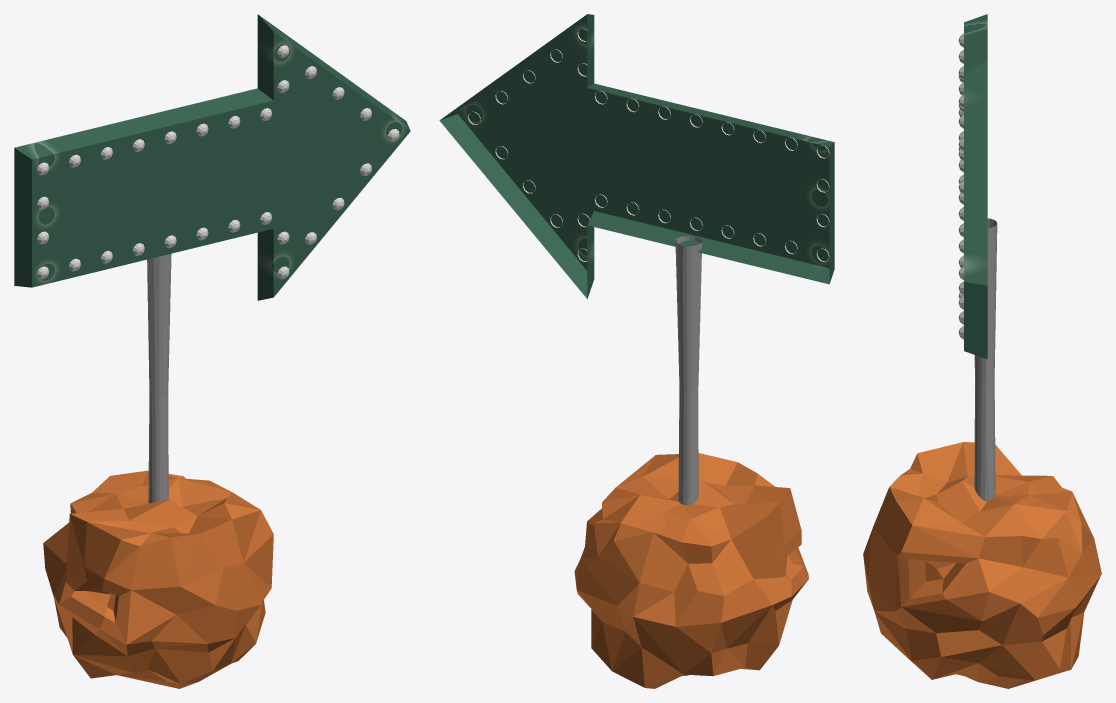
Rendered from signArrow.fbx.
The picture shows the model from 3 angles, left to right: view 1: azimuth 30°, elevation 25°; view 2: azimuth 150°, elevation 25°; view 3: azimuth 270°, elevation 25°; orthographic projection. The views are drawn at different scales.
Visible parts, largest first — view 1: Cylinder.001, Cube, Cylinder.003; view 2: Cylinder.001, Cube, Cylinder.003; view 3: Cube, Cylinder.001, Cylinder.003.
Part boxes in pixels (box(x1,y1,x2,y2)): Cylinder.001: box(14, 14, 410, 503); Cube: box(43, 470, 273, 688); Cylinder.003: box(37, 45, 399, 279); Cylinder.001: box(439, 14, 834, 504); Cube: box(574, 453, 808, 688); Cylinder.003: box(468, 28, 829, 261); Cube: box(863, 442, 1101, 688); Cylinder.001: box(964, 14, 997, 501); Cylinder.003: box(958, 33, 963, 339).
Size of the model in its own units: 6.41 by 10.03 by 3.24.
